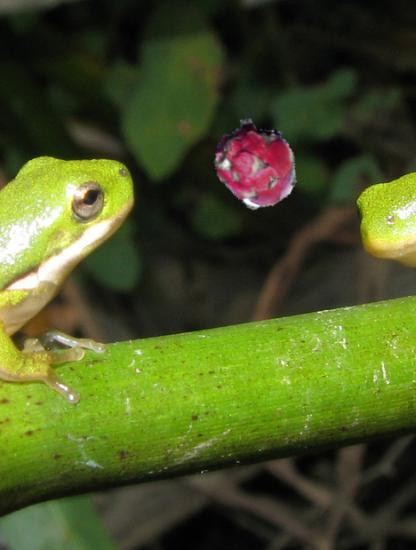Pitahaya: (212, 121, 301, 210)
